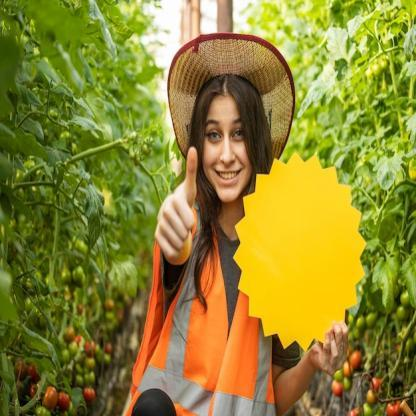thumb_up: (152, 143, 200, 266)
